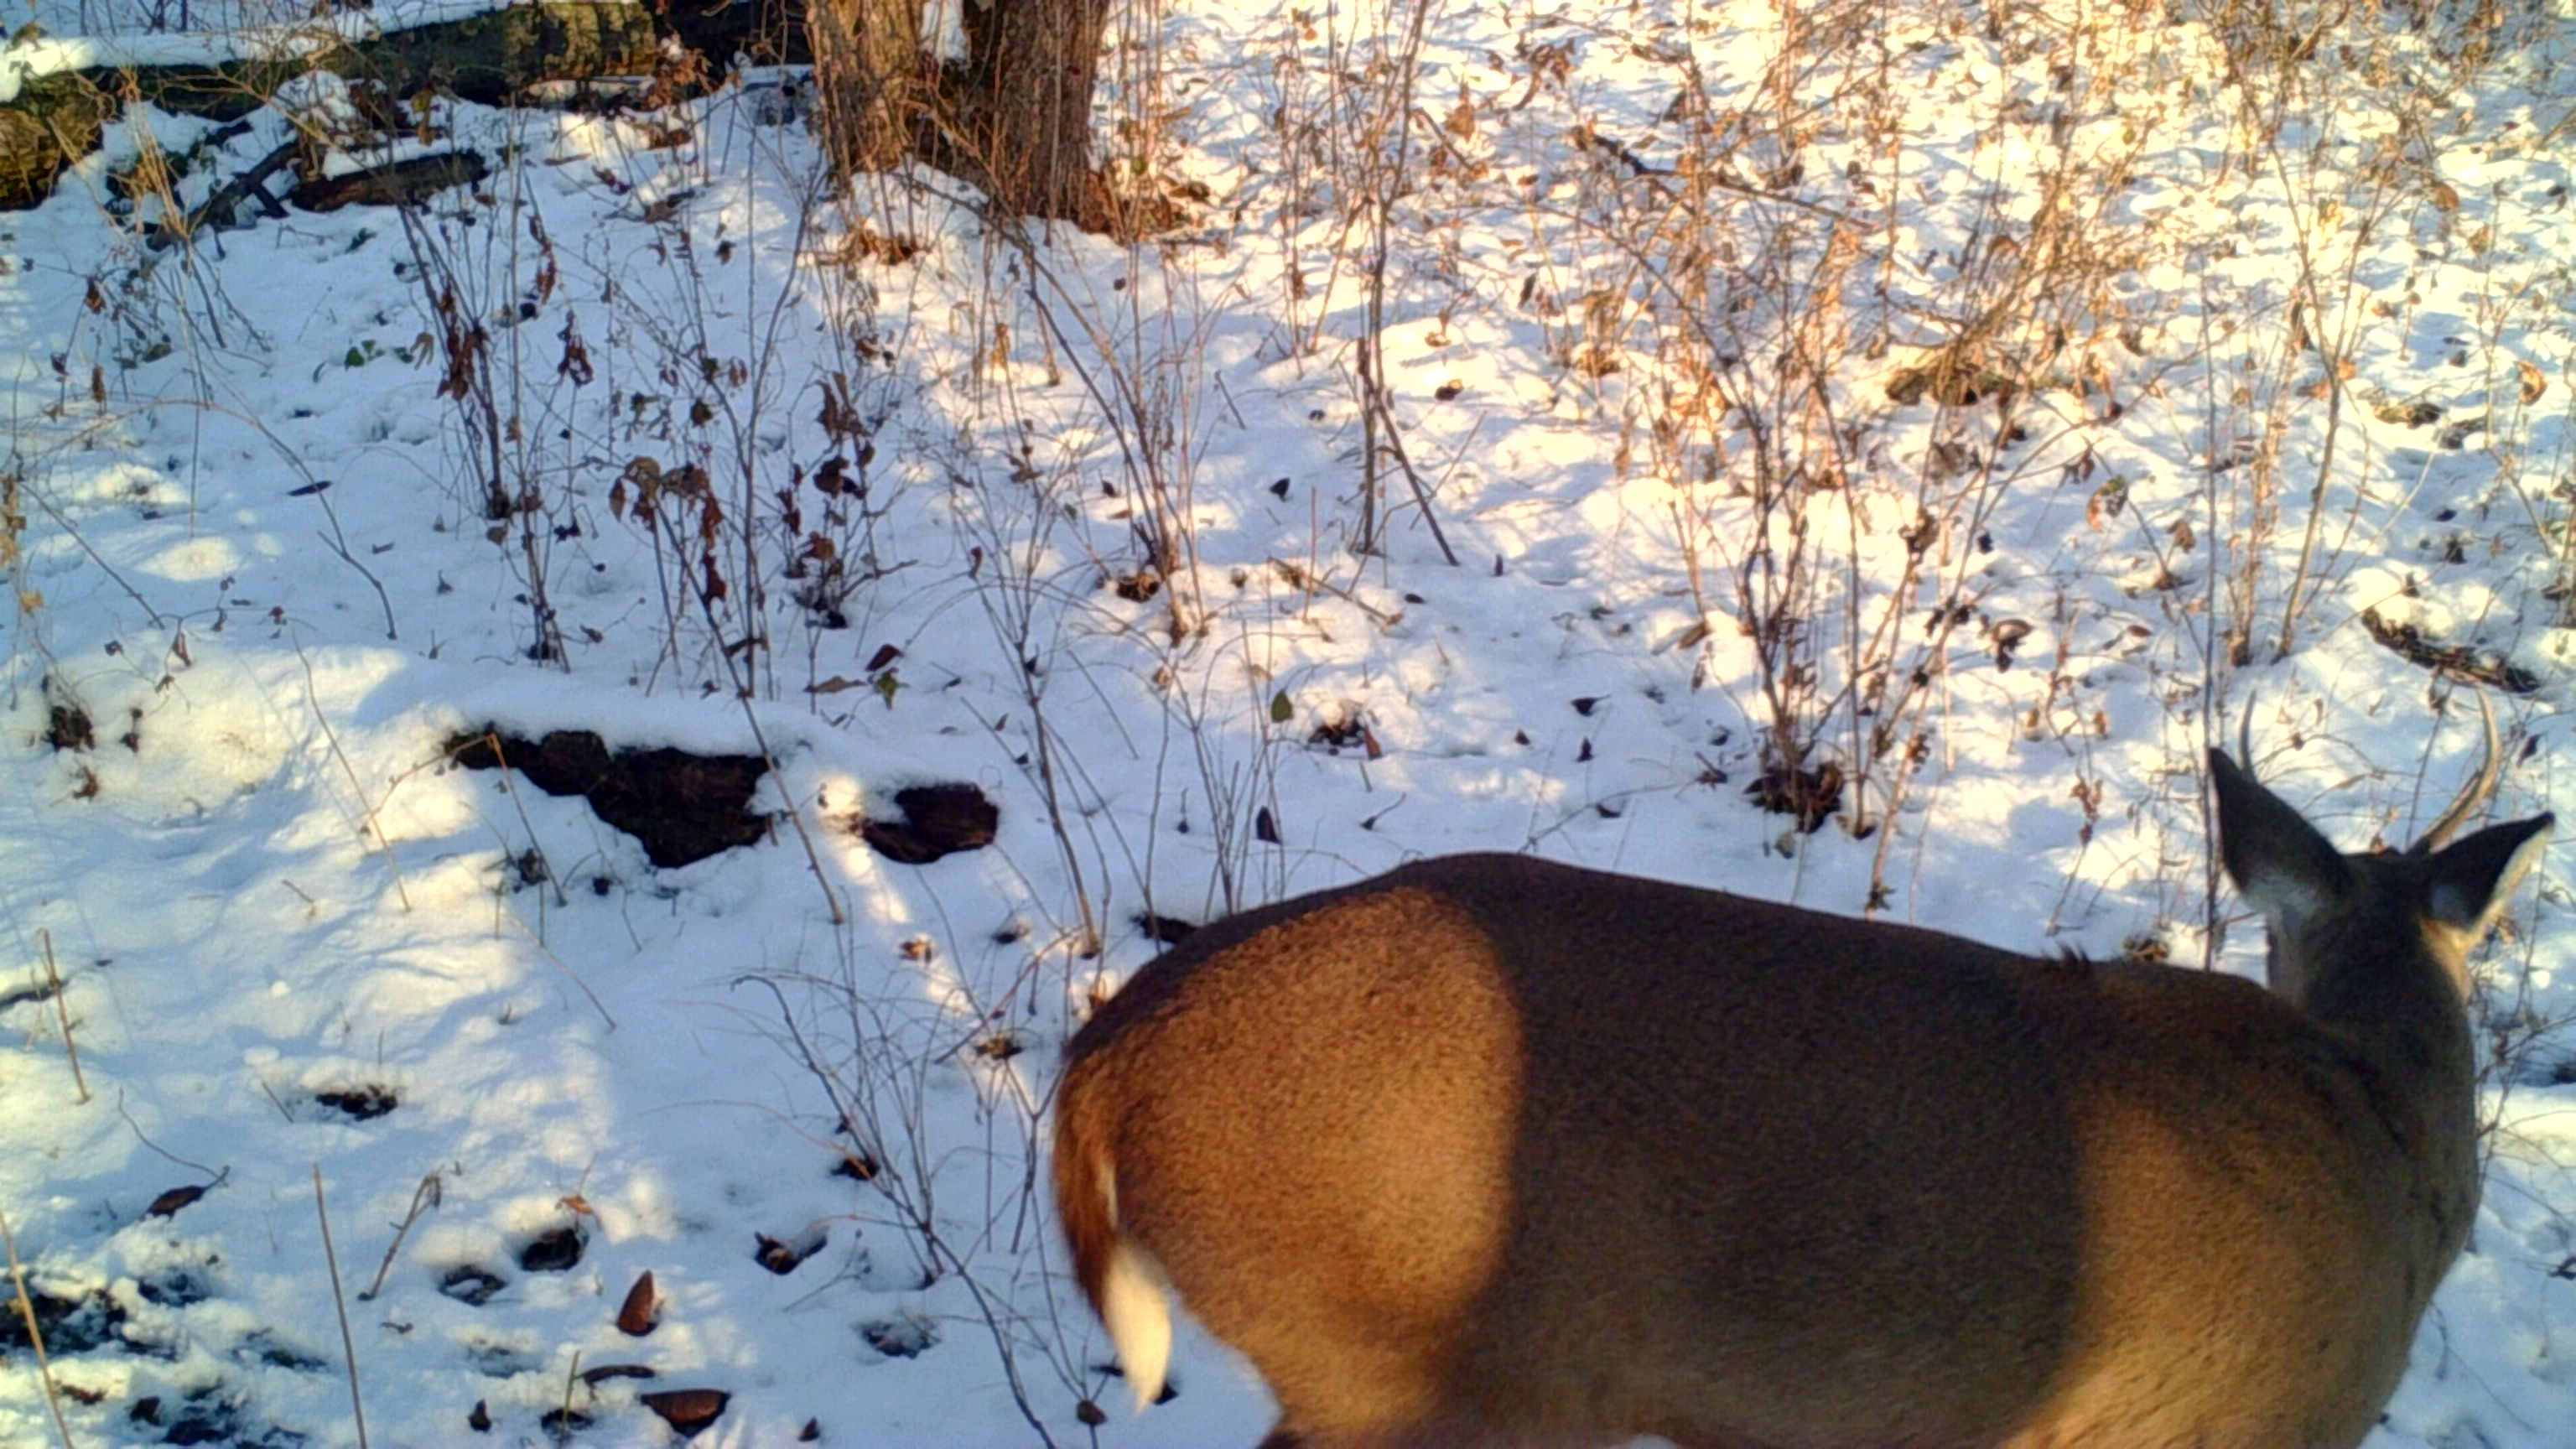DeerBuck: (1042, 665, 2565, 1448)
DeerBuckHead: (2201, 668, 2558, 943)
